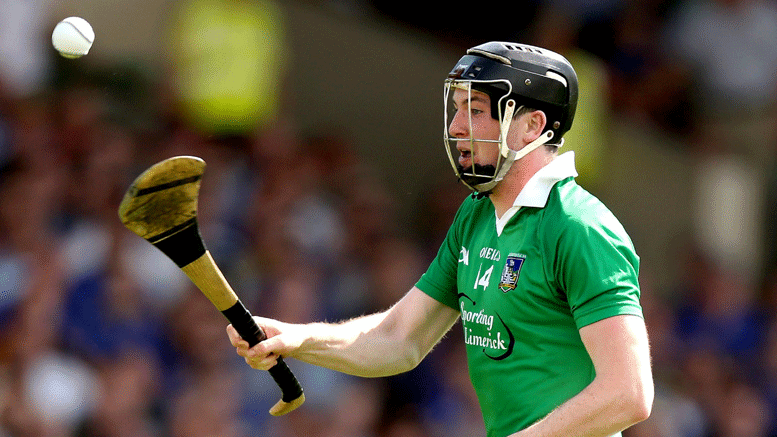hurley: (115, 148, 307, 419)
